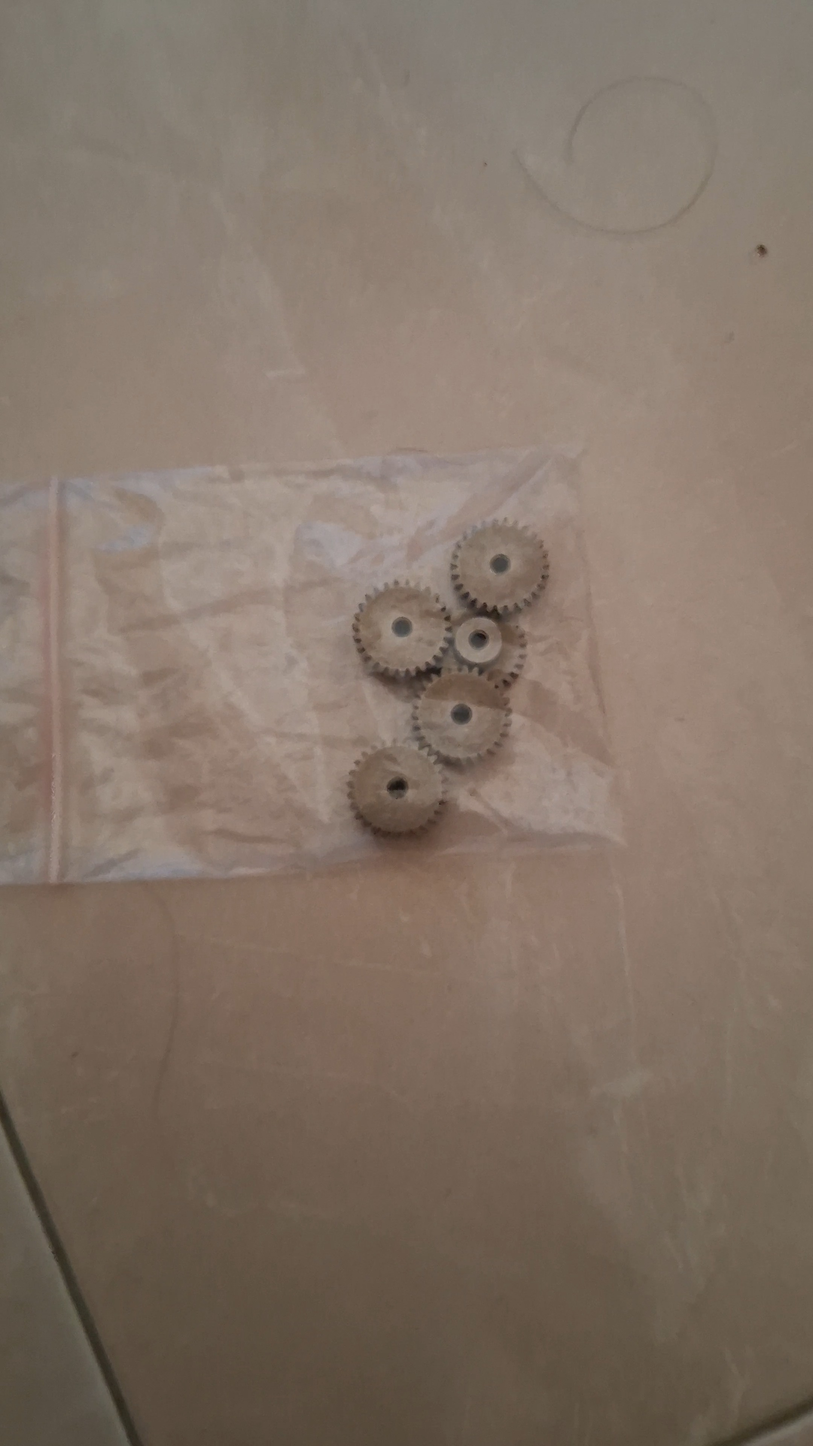spur gear: (353, 582, 451, 678), (451, 520, 549, 615), (413, 669, 510, 763), (348, 744, 445, 834), (452, 615, 502, 671)
